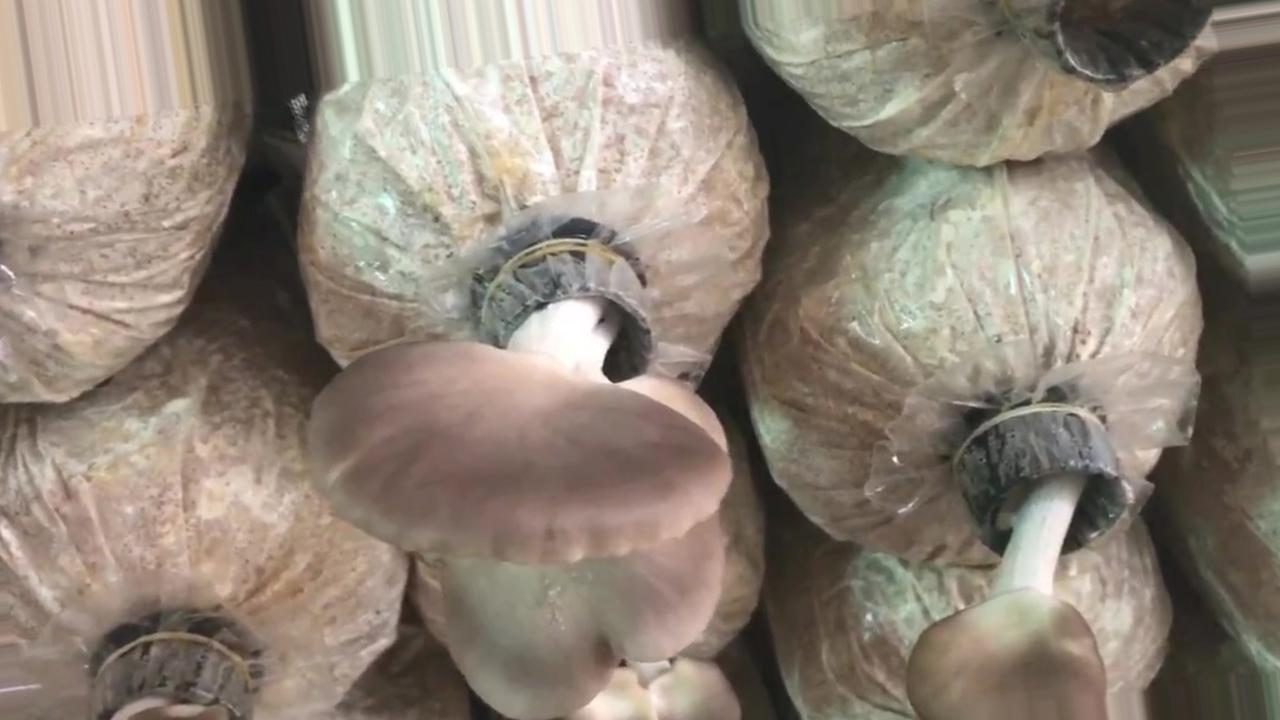nam: (304, 242, 733, 720), (901, 409, 1122, 720)
